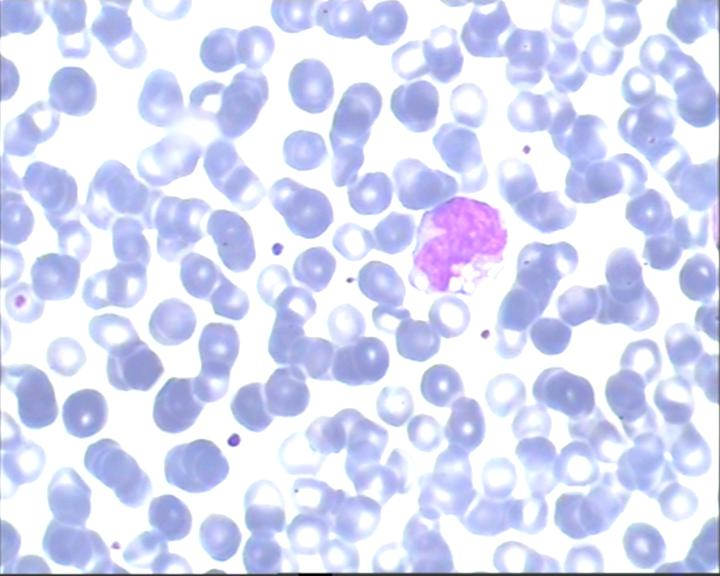mono: (398, 195, 513, 299)
